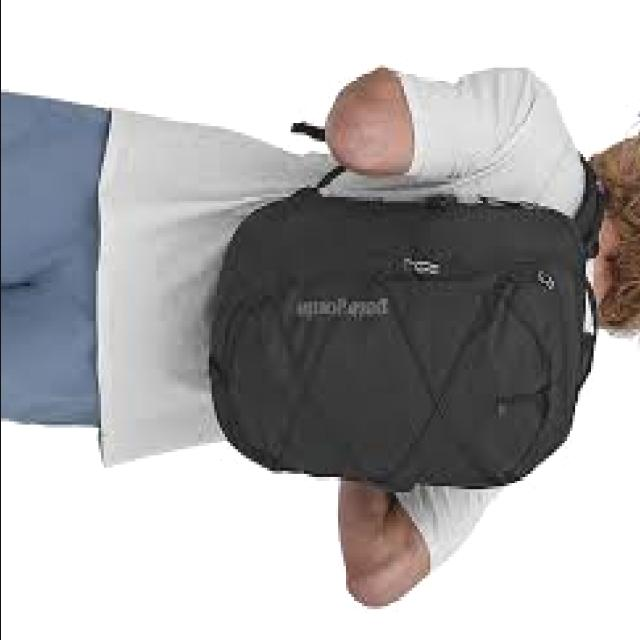backpack: (209, 149, 607, 493)
